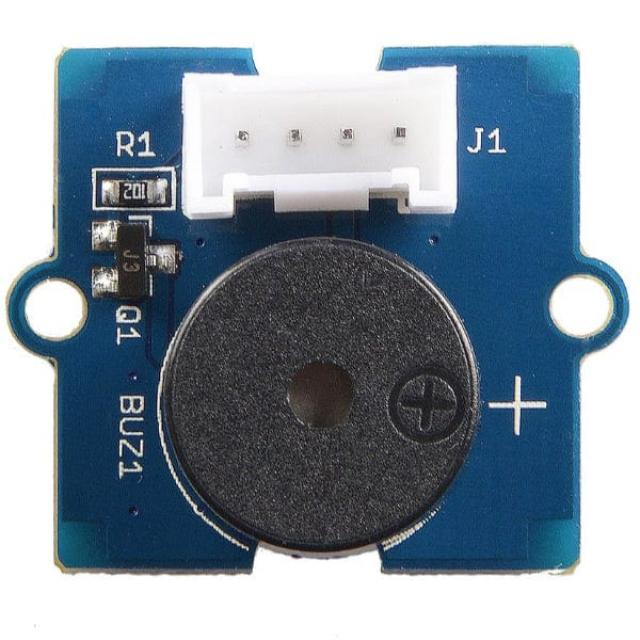4439: (85, 212, 178, 294)
buzzer: (171, 248, 474, 550)
connector -5v-: (174, 71, 461, 220)
resistor IR1: (97, 172, 165, 213)
